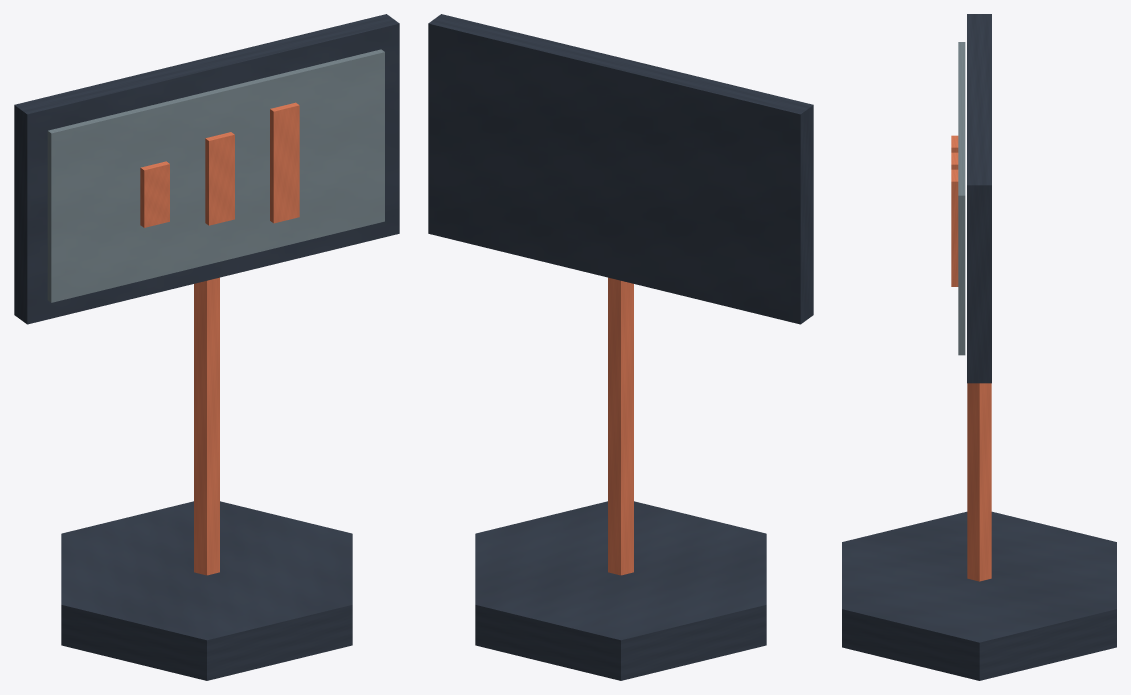
Rendered from atlas100-s021-a11.glb.
3 renders of one model, left to right at view 1: azimuth 30°, elevation 25°; view 2: azimuth 150°, elevation 25°; view 3: azimuth 270°, elevation 25°, orthographic. The views are drawn at different scales.
Visible parts, largest first — view 1: atlas100-s021-a11:part-003, atlas100-s021-a11:part-000, atlas100-s021-a11:part-002, atlas100-s021-a11:part-001, atlas100-s021-a11:part-006, atlas100-s021-a11:part-005, atlas100-s021-a11:part-004; view 2: atlas100-s021-a11:part-002, atlas100-s021-a11:part-000, atlas100-s021-a11:part-001; view 3: atlas100-s021-a11:part-000, atlas100-s021-a11:part-002, atlas100-s021-a11:part-001, atlas100-s021-a11:part-003, atlas100-s021-a11:part-006.
Boxes of the visible parts, <box> form: atlas100-s021-a11:part-003: <box>47,49,384,302</box>; atlas100-s021-a11:part-000: <box>61,501,352,680</box>; atlas100-s021-a11:part-002: <box>14,14,399,324</box>; atlas100-s021-a11:part-001: <box>194,277,219,575</box>; atlas100-s021-a11:part-006: <box>270,102,299,223</box>; atlas100-s021-a11:part-005: <box>205,132,234,225</box>; atlas100-s021-a11:part-004: <box>140,161,169,227</box>; atlas100-s021-a11:part-002: <box>428,14,813,324</box>; atlas100-s021-a11:part-000: <box>475,501,766,680</box>; atlas100-s021-a11:part-001: <box>608,277,633,575</box>; atlas100-s021-a11:part-000: <box>842,511,1116,680</box>; atlas100-s021-a11:part-002: <box>967,14,991,383</box>; atlas100-s021-a11:part-001: <box>967,383,991,581</box>; atlas100-s021-a11:part-003: <box>958,42,965,355</box>; atlas100-s021-a11:part-006: <box>951,169,958,286</box>.
Bounding box in the file's own units: 1.15 × 1.61 × 0.7794.
3 materials, 3 textured.
